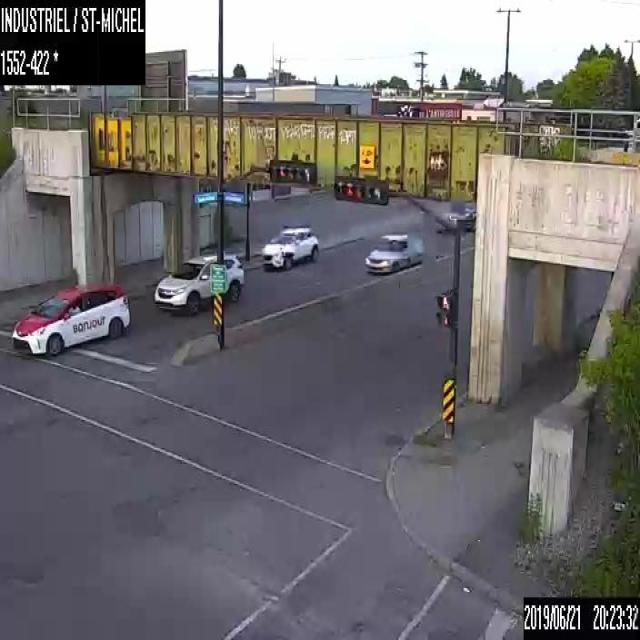vehicle: (10, 280, 129, 356), (152, 252, 242, 313), (260, 226, 318, 270), (362, 232, 423, 273), (439, 200, 476, 231)
